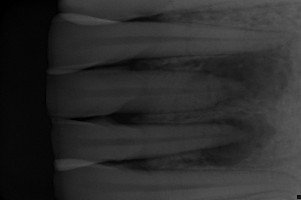Furcation Involvement: (196, 51, 290, 99), (201, 115, 276, 167)
